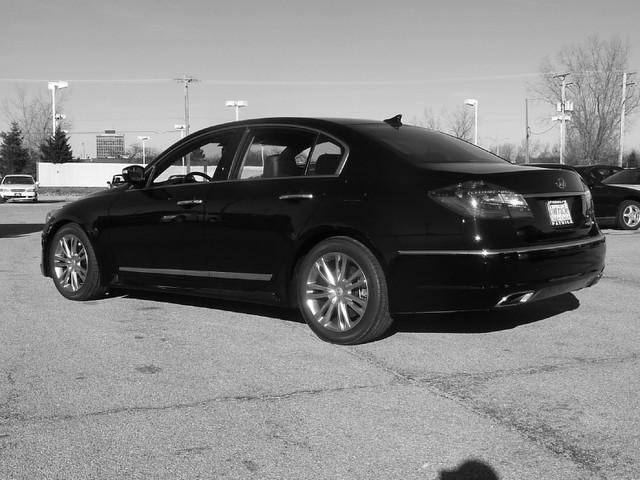car: (43, 117, 607, 344)
